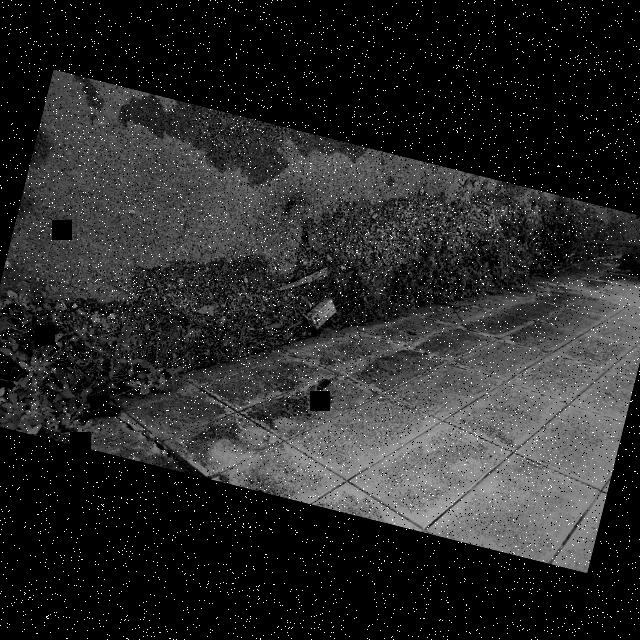plastic_box: (301, 286, 341, 338)
